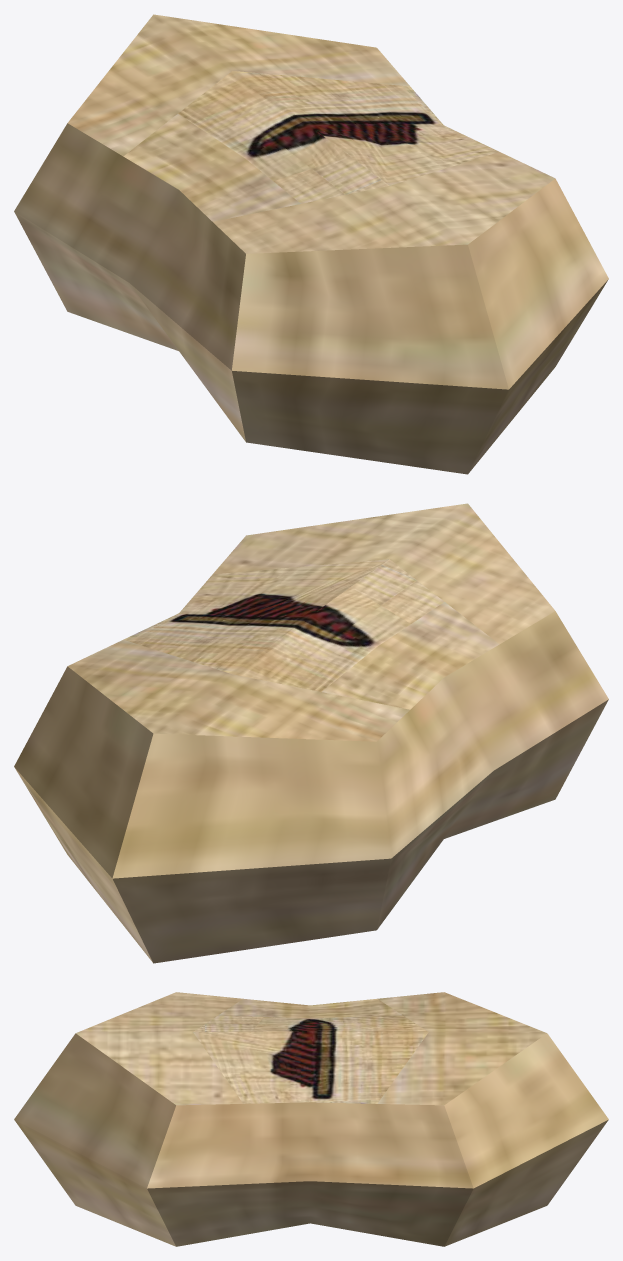
File: stone_puzzle_letter_E.fbx
3 views of the same model, one above another, from view 1: azimuth 30°, elevation 25°; view 2: azimuth 150°, elevation 25°; view 3: azimuth 270°, elevation 25° (orthographic). The views are drawn at different scales.
Parts seen in each view (by area): view 1: Stone_E; view 2: Stone_E; view 3: Stone_E.
Part boxes in pixels (box(x1,y1,x2,y2)): Stone_E: box(14, 14, 608, 474); Stone_E: box(14, 503, 608, 963); Stone_E: box(14, 992, 608, 1246).
Bounding box in the file's own units: 41.86 × 24.69 × 76.22.
2 materials, 2 textured.
